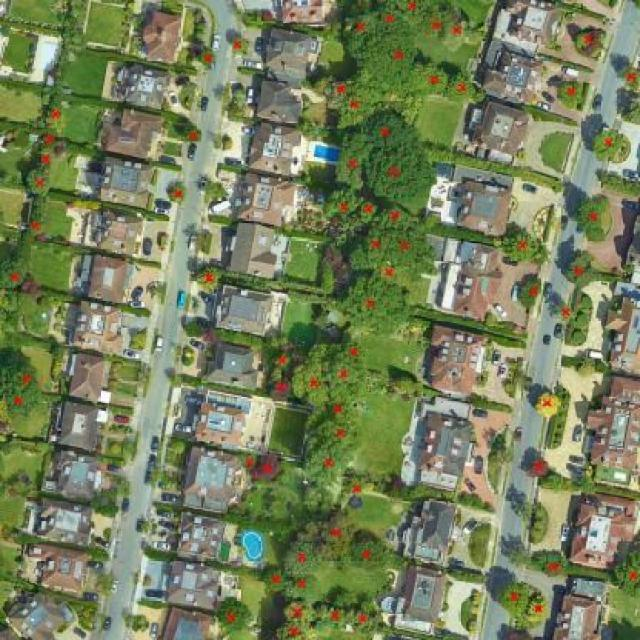tree: (342, 26, 423, 102), (334, 270, 415, 344), (366, 137, 442, 211), (352, 105, 429, 153), (386, 222, 442, 282), (299, 392, 370, 437), (332, 81, 386, 136), (297, 336, 331, 416), (204, 592, 259, 639), (329, 132, 369, 196), (303, 433, 345, 493), (332, 10, 383, 59), (345, 227, 397, 275), (402, 60, 453, 106), (312, 419, 371, 458), (349, 532, 393, 583), (322, 506, 358, 568), (278, 537, 327, 580), (321, 182, 374, 221), (325, 357, 370, 401), (372, 201, 425, 236), (30, 94, 75, 135), (609, 545, 640, 601), (495, 572, 527, 626), (558, 250, 598, 293), (591, 122, 629, 167), (572, 193, 610, 238), (441, 7, 473, 58), (0, 359, 43, 396), (442, 69, 482, 106), (317, 73, 354, 113), (502, 225, 536, 268), (258, 561, 297, 598), (251, 448, 287, 488), (387, 0, 436, 29), (552, 75, 590, 112), (266, 615, 322, 640), (368, 258, 409, 292), (512, 271, 546, 312), (0, 386, 42, 419), (279, 589, 316, 626), (530, 385, 564, 424), (56, 24, 93, 59), (415, 6, 447, 46), (349, 597, 382, 635), (367, 4, 405, 36), (263, 350, 300, 382), (527, 587, 553, 631), (22, 163, 53, 199), (332, 333, 366, 365), (0, 251, 26, 291), (291, 575, 327, 603), (524, 450, 553, 484), (192, 262, 223, 293), (163, 175, 191, 208), (28, 122, 60, 150), (315, 604, 348, 631), (540, 546, 566, 580), (343, 468, 368, 503), (266, 377, 295, 405), (351, 200, 382, 226), (618, 61, 640, 97), (226, 32, 255, 59), (569, 23, 596, 51), (201, 178, 230, 204), (165, 177, 191, 206), (193, 47, 221, 73), (128, 324, 149, 358), (11, 271, 40, 295), (31, 143, 57, 169), (20, 213, 46, 239), (570, 358, 599, 381), (551, 298, 575, 322), (183, 316, 205, 342), (182, 123, 205, 146), (238, 453, 259, 476), (260, 6, 277, 28), (169, 441, 189, 459)
